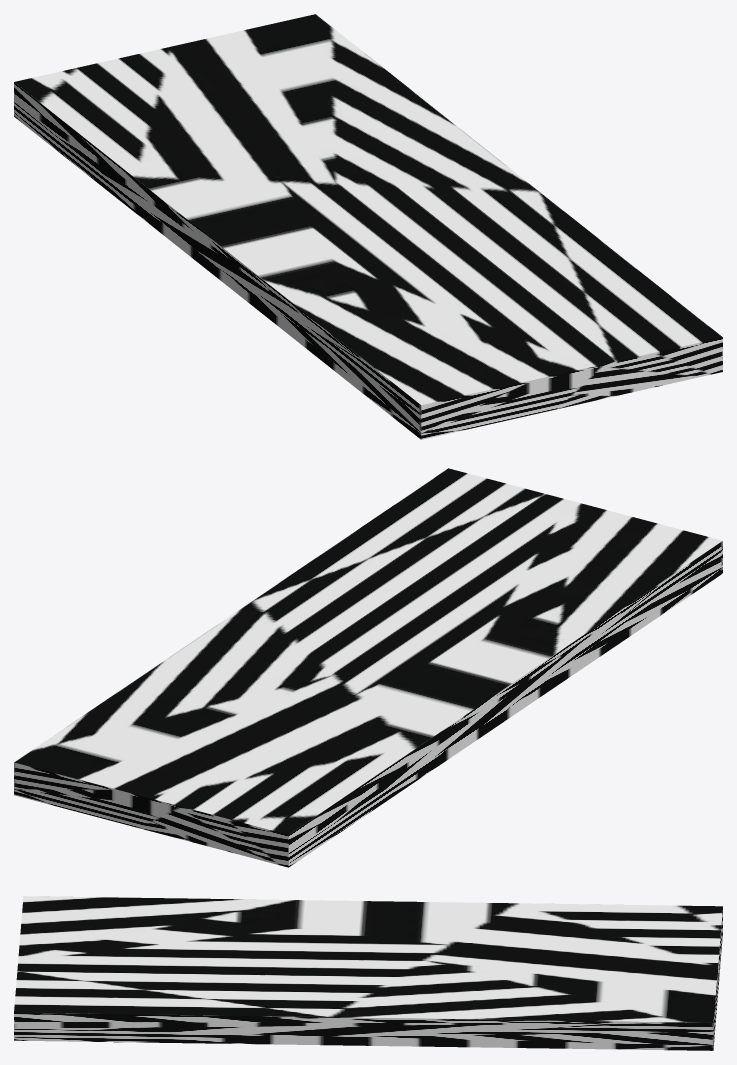
3 renders of one model, top to bottom at view 1: azimuth 30°, elevation 25°; view 2: azimuth 150°, elevation 25°; view 3: azimuth 270°, elevation 25°, orthographic. The views are drawn at different scales.
Parts seen in each view (by area): view 1: Cube.008; view 2: Cube.008; view 3: Cube.008.
Boxes of the visible parts, box(x1,y1,x2,y2) form: Cube.008: box(14, 14, 722, 439); Cube.008: box(14, 468, 722, 867); Cube.008: box(14, 896, 722, 1050).
Bounding box in the file's own units: 3.48 × 0.3583 × 8.23.
1 material, 1 textured.
